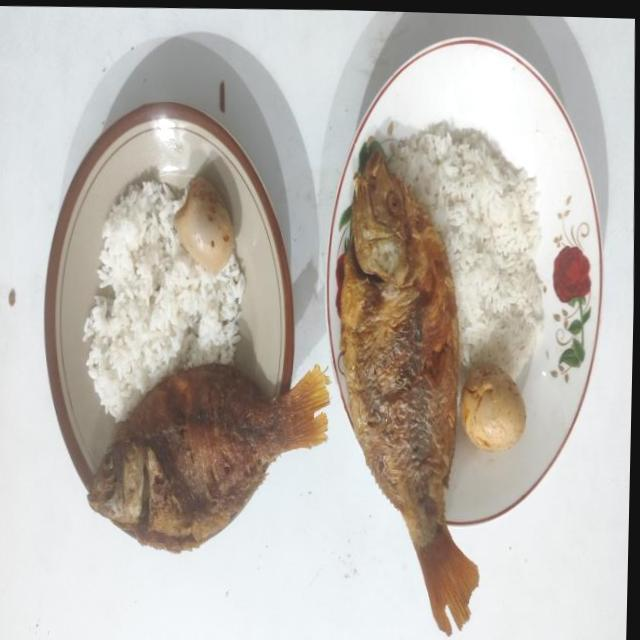ikan_mujair: (340, 148, 478, 632), (88, 364, 329, 551)
nasi_putih: (386, 121, 544, 373), (83, 180, 245, 422)
